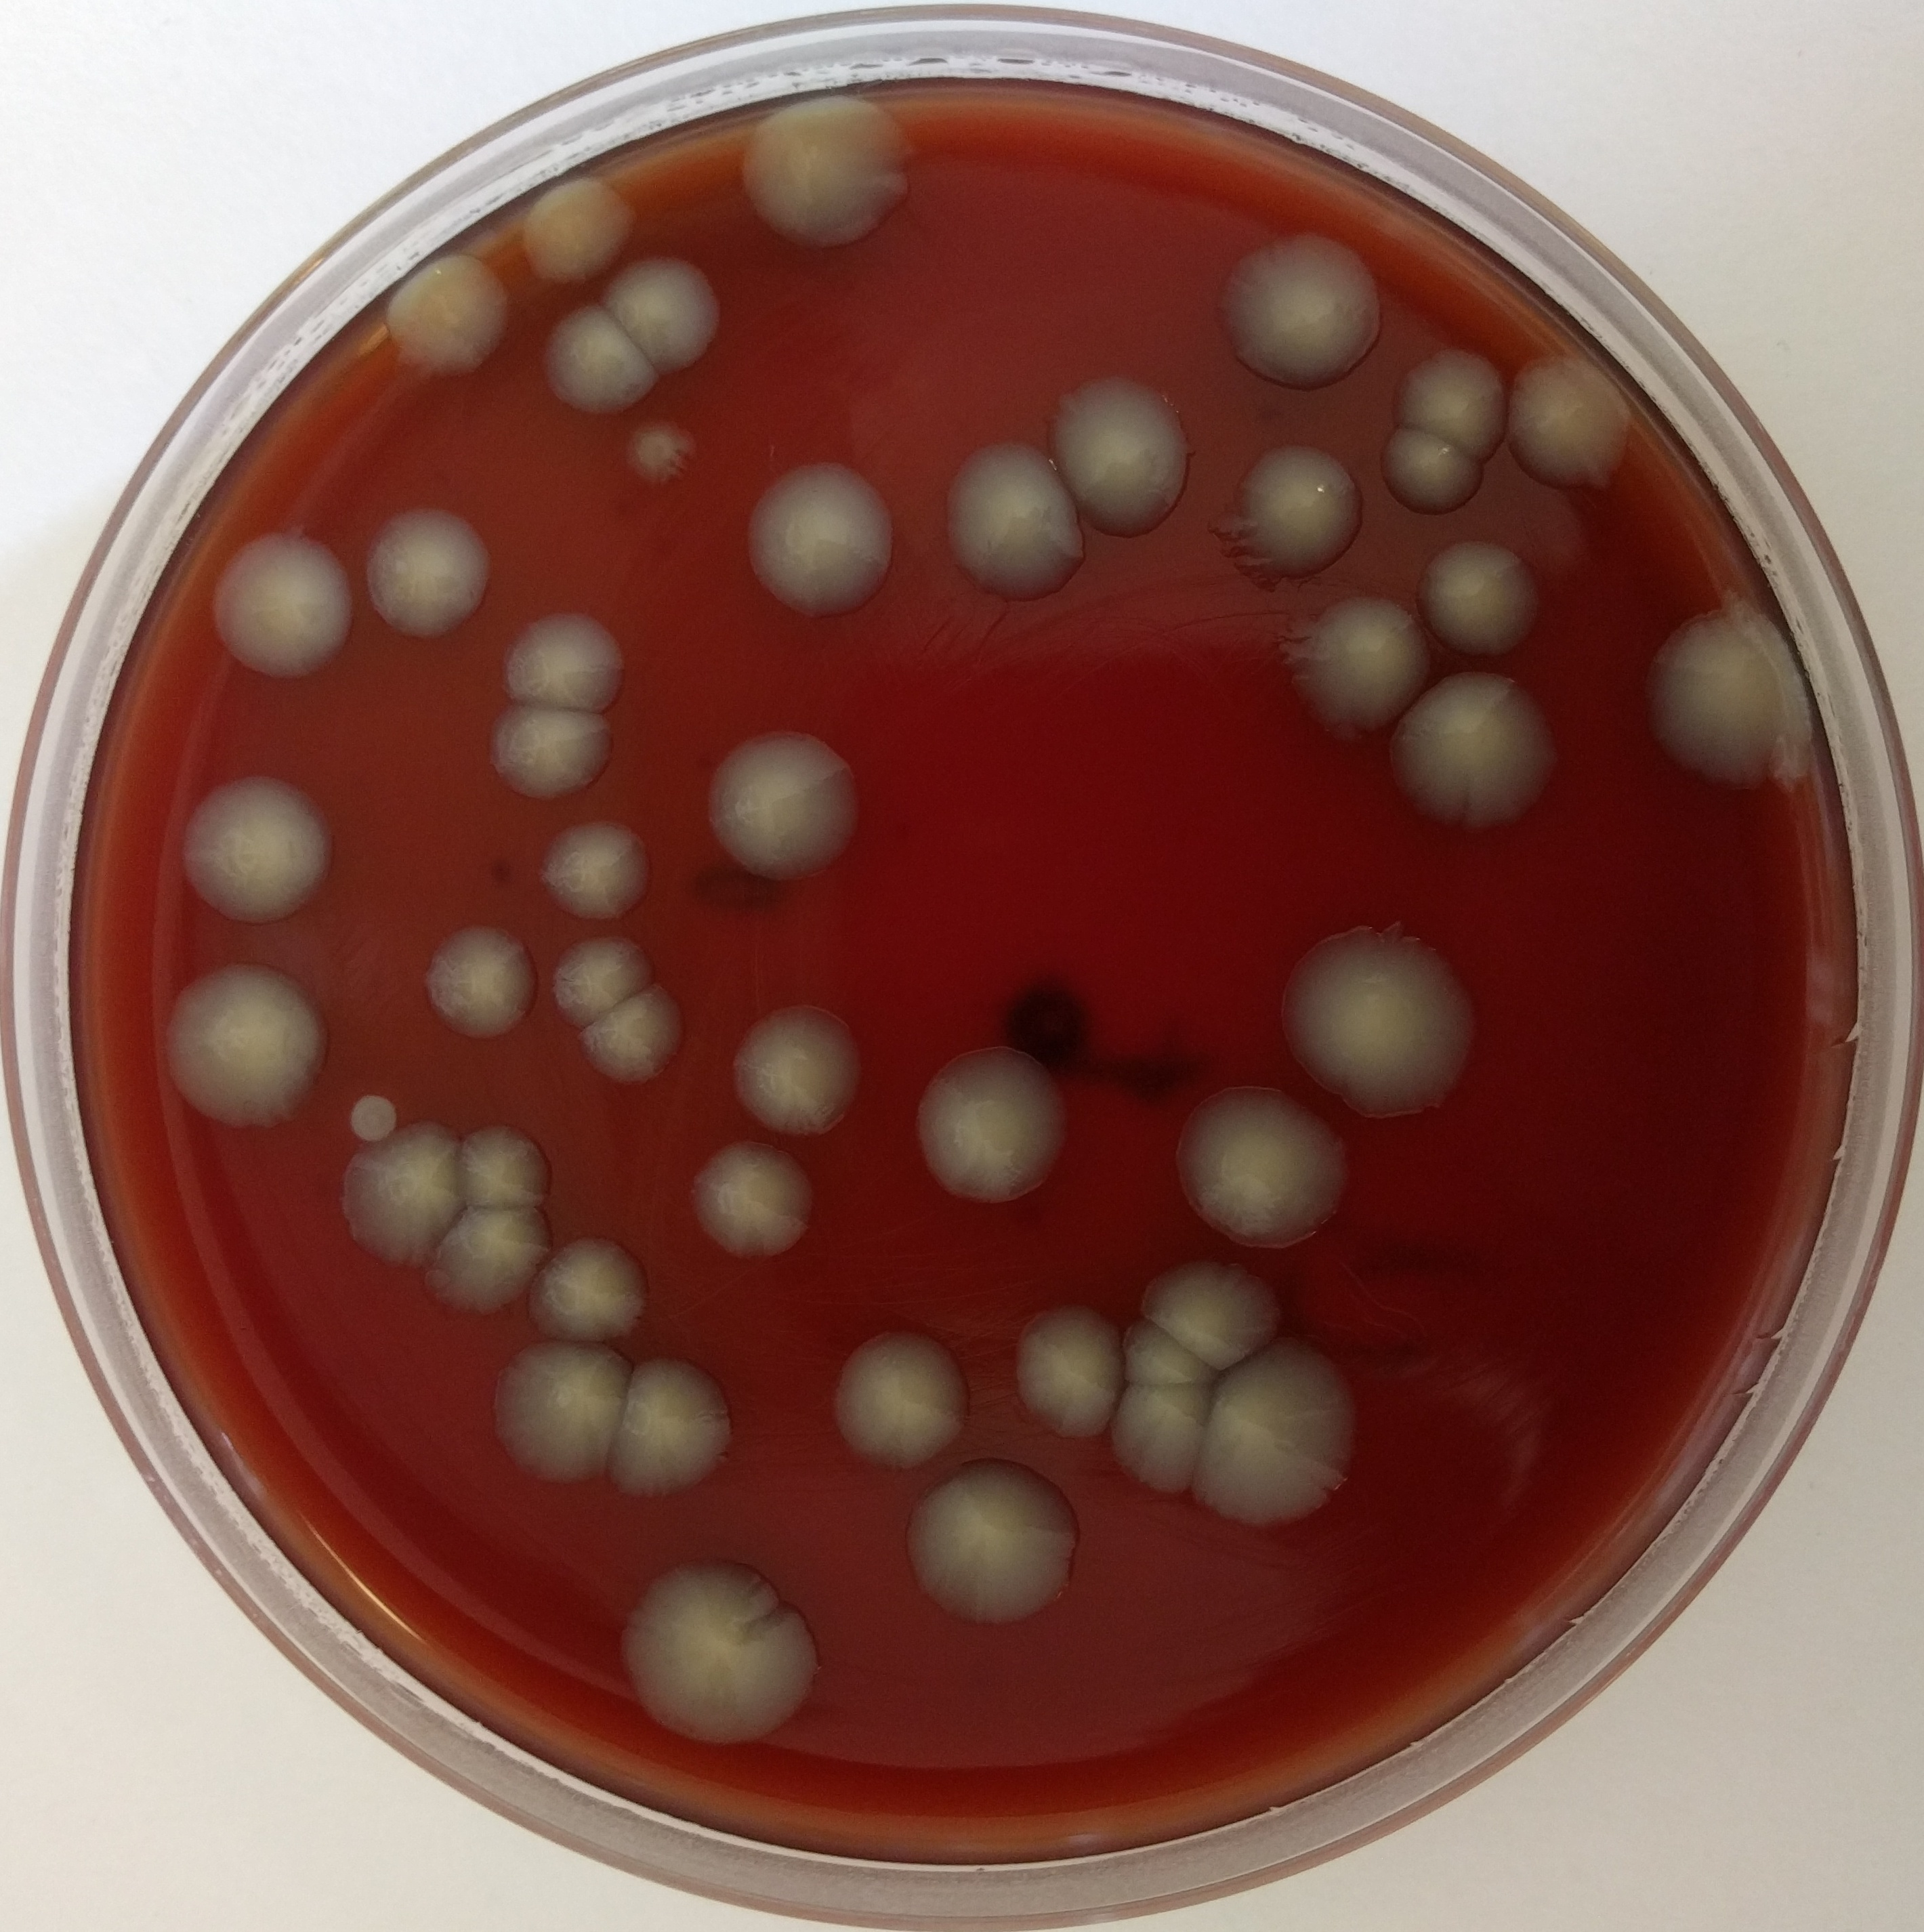sp05: (1295, 902, 1499, 1125), (622, 1552, 825, 1756), (1646, 586, 1825, 798), (1188, 1337, 1367, 1530), (733, 453, 914, 634), (1170, 1080, 1362, 1250), (153, 948, 329, 1132), (906, 1460, 1078, 1633), (1383, 669, 1561, 837), (1217, 220, 1390, 391), (701, 724, 874, 895), (742, 83, 918, 250), (916, 1036, 1075, 1205), (173, 770, 340, 926), (944, 423, 1087, 604), (1281, 590, 1429, 757), (1068, 368, 1195, 544), (483, 1337, 622, 1492), (211, 521, 349, 678), (1228, 433, 1367, 586), (839, 1319, 978, 1469), (615, 1349, 744, 1509), (361, 500, 493, 648), (729, 992, 865, 1131), (1506, 350, 1633, 497), (340, 1115, 462, 1265), (381, 241, 502, 389), (691, 1134, 819, 1266), (1138, 1252, 1284, 1365), (1013, 1300, 1121, 1442), (1422, 537, 1545, 660), (516, 167, 636, 294), (419, 1210, 551, 1321), (534, 1233, 652, 1351), (421, 918, 539, 1036), (488, 703, 622, 805), (610, 252, 722, 370), (543, 305, 655, 419), (500, 609, 627, 708), (1395, 343, 1505, 456), (539, 814, 654, 919), (1110, 1381, 1212, 1499), (587, 984, 689, 1092), (551, 926, 650, 1029), (1378, 424, 1484, 520), (462, 1122, 551, 1210), (1121, 1317, 1217, 1388), (624, 414, 701, 490), (345, 1090, 398, 1145)
